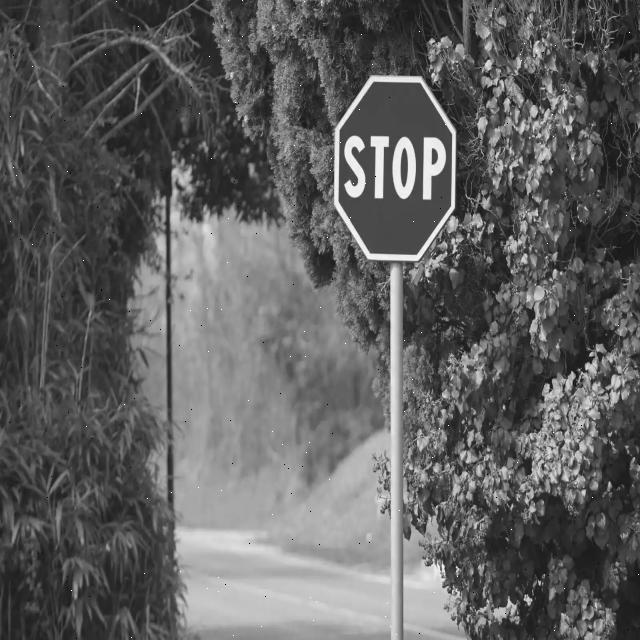Stop-sign: (311, 70, 478, 277)
